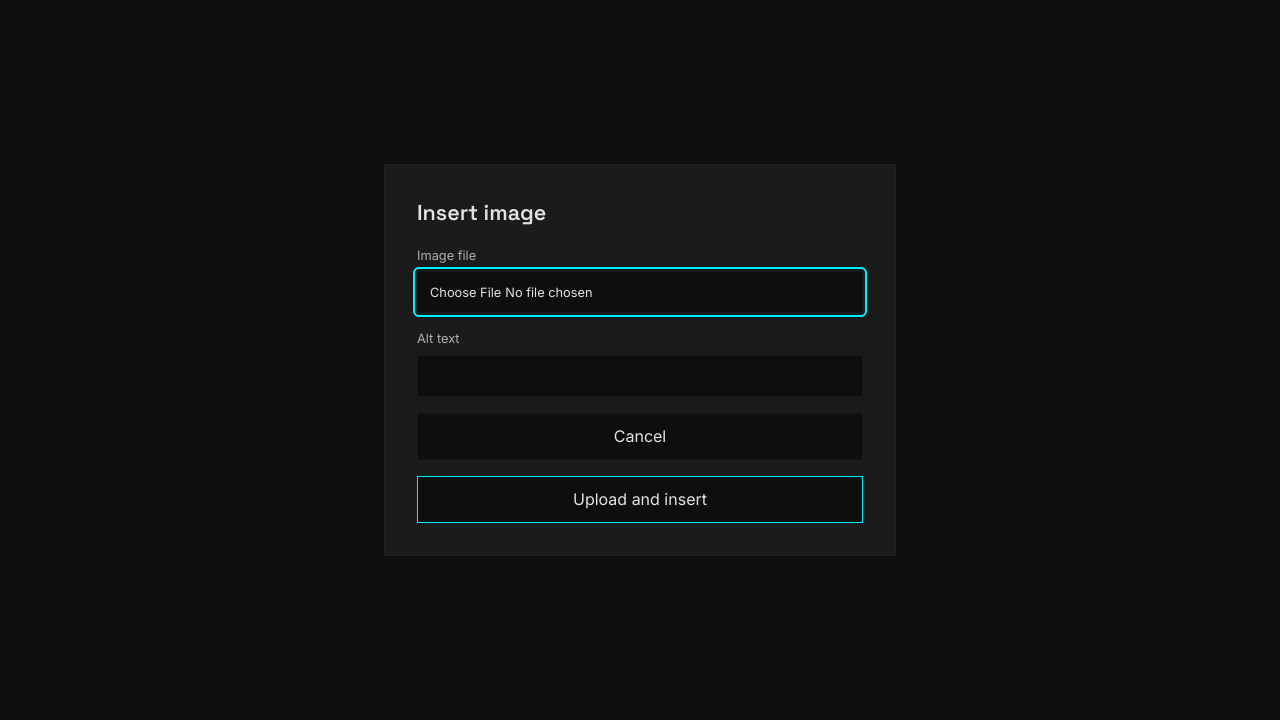
ImageUploadDialog › requires both an image and alt text
Click the button "Upload and insert" at (640, 499), box [417,476,863,522]
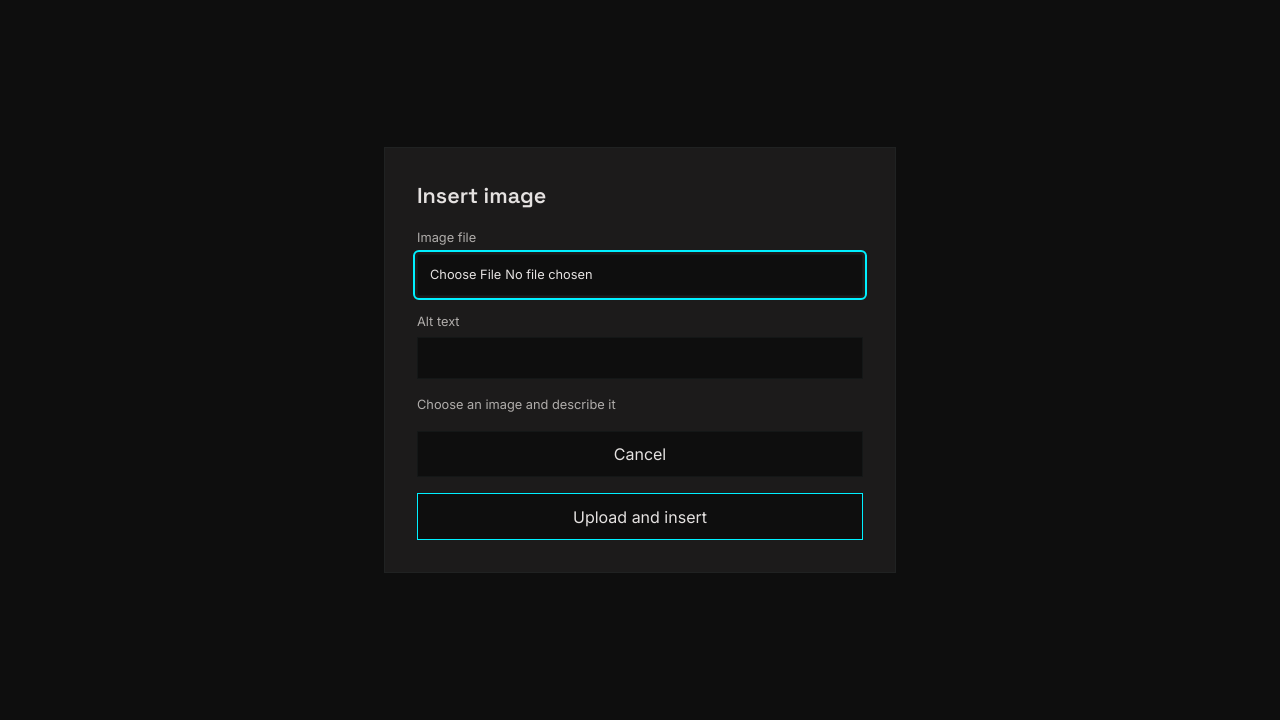
Now the message reads "Choose an image and describe it", box [417,397,616,412]
